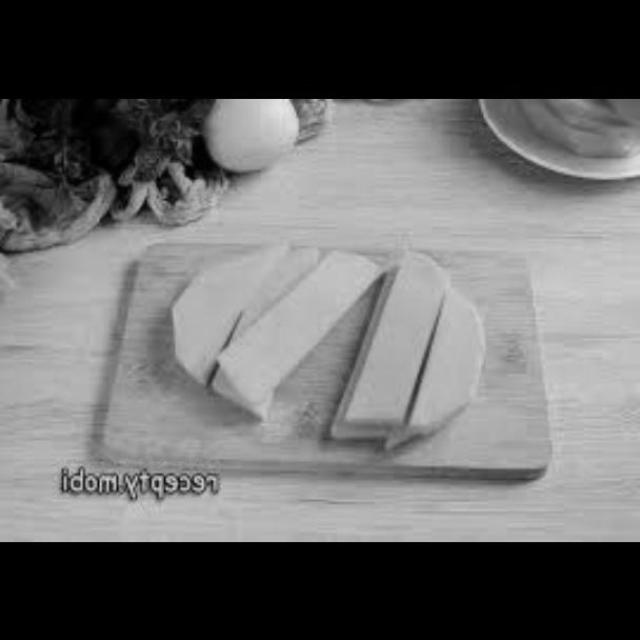pumpkin: (209, 239, 378, 409), (325, 247, 462, 448), (166, 236, 293, 392), (392, 278, 494, 455)
